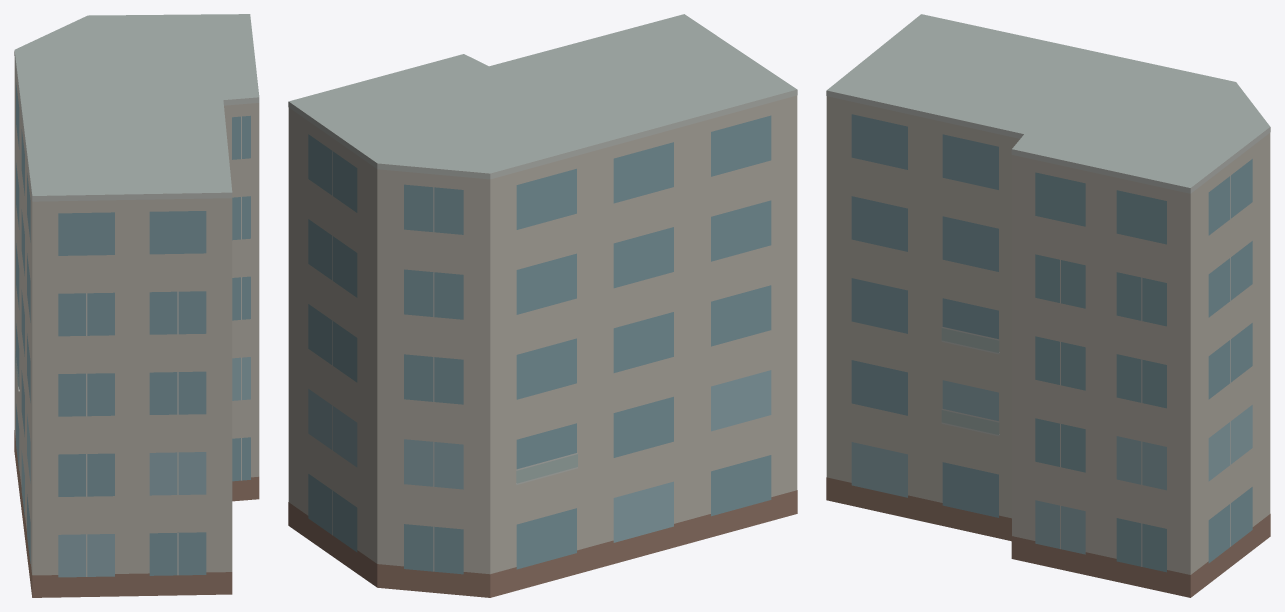
Rendered from survey-upis-33019724.glb.
The picture shows the model from 3 angles, left to right: view 1: azimuth 30°, elevation 25°; view 2: azimuth 150°, elevation 25°; view 3: azimuth 270°, elevation 25°; orthographic projection. The views are drawn at different scales.
Parts seen in each view (by area): view 1: survey-upis-33019724.tmp; view 2: survey-upis-33019724.tmp; view 3: survey-upis-33019724.tmp.
Boxes of the visible parts, x1=… form: survey-upis-33019724.tmp: x1=14, y1=14, x2=259, y2=597; survey-upis-33019724.tmp: x1=288, y1=14, x2=797, y2=597; survey-upis-33019724.tmp: x1=826, y1=14, x2=1270, y2=597.
Bounding box in the file's own units: 16.09 × 17.65 × 17.34.
